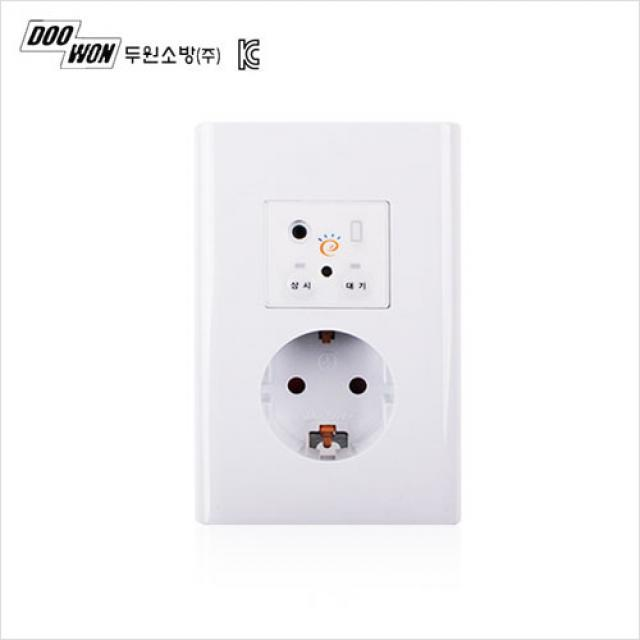typeb: (171, 114, 493, 552)
